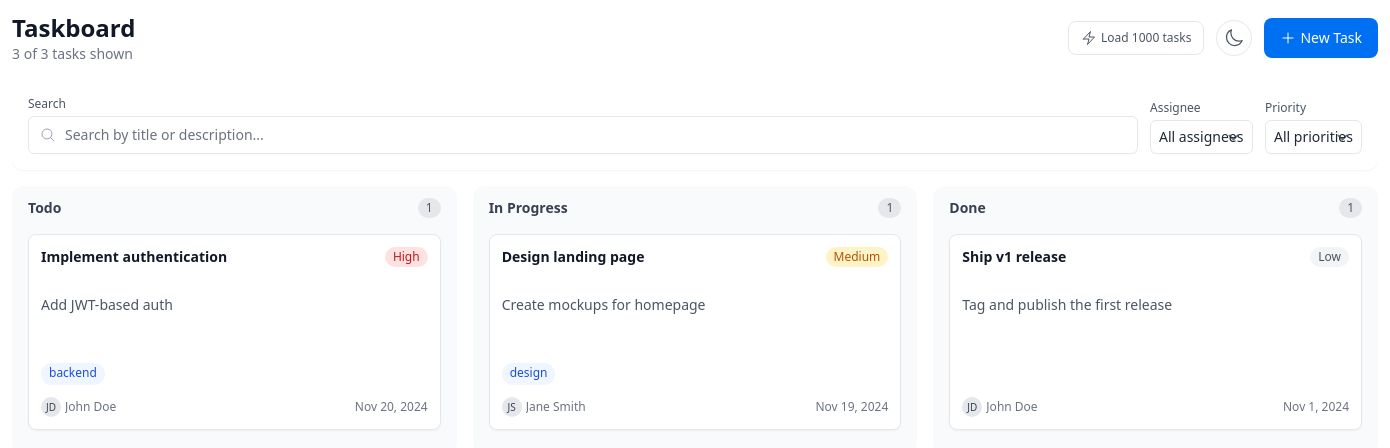
Test: TaskBoard › filters tasks by priority
Select "High" in the dropdown named "filter by priority" at (1314, 137), box [1265,120,1362,154]
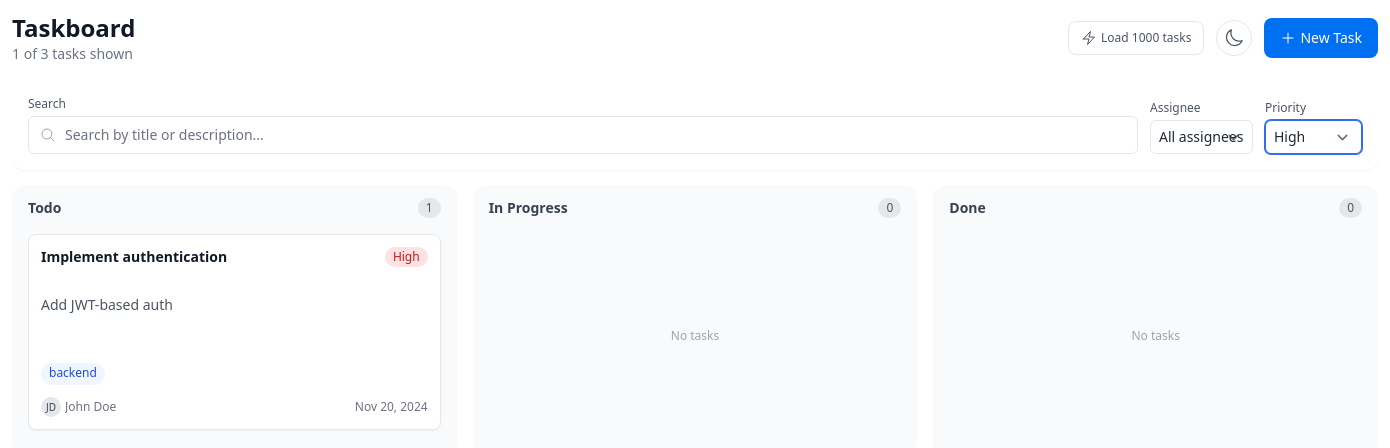
Expected: the heading "Implement authentication" is shown, [41,247,227,266]
Now the heading "Design landing page" is gone
Now the heading "Ship v1 release" is gone
